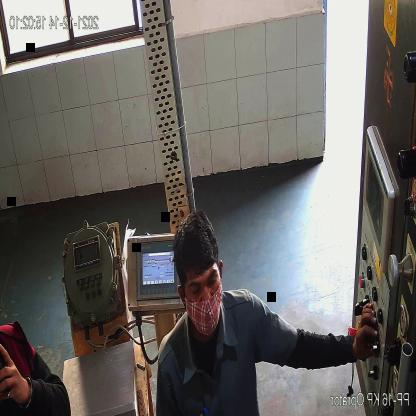no_goggles: (183, 268, 218, 296)
